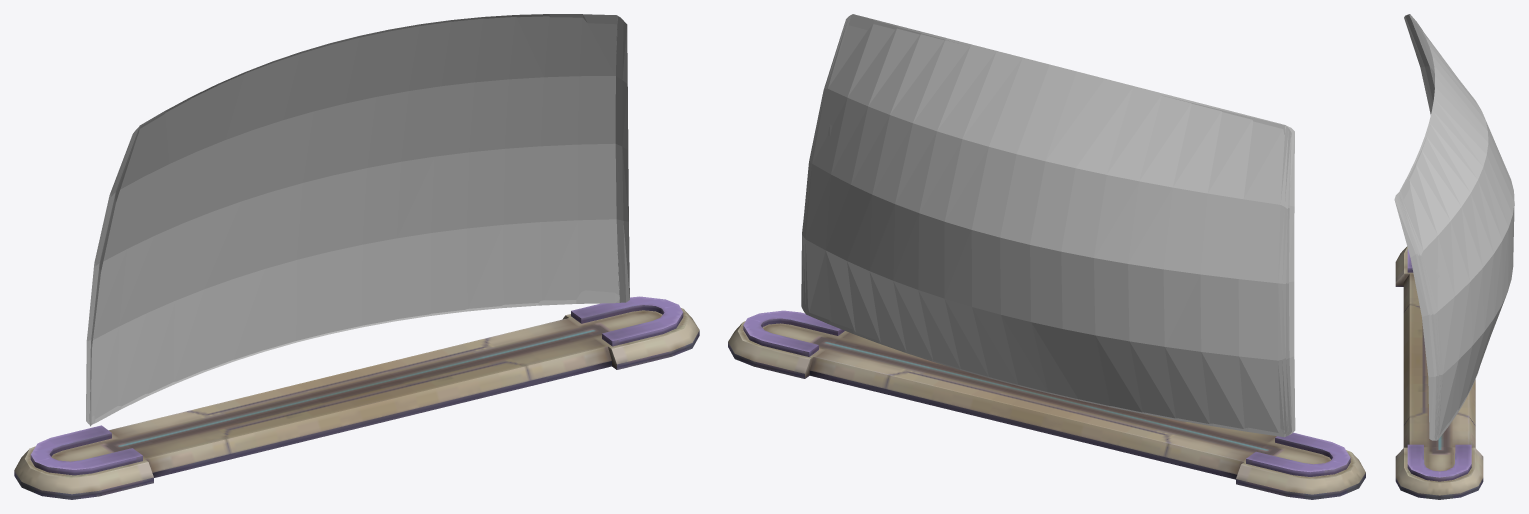
File: pref_fx_mini_onewaydoor_01_purpura_lv1.fbx
The picture shows the model from 3 angles, left to right: view 1: azimuth 30°, elevation 25°; view 2: azimuth 150°, elevation 25°; view 3: azimuth 270°, elevation 25°; orthographic projection. The views are drawn at different scales.
Parts seen in each view (by area): view 1: screen02, sm_garden_display01; view 2: screen02, sm_garden_display01; view 3: screen02, sm_garden_display01.
Part boxes in pixels (x1,y1,x2,y2): screen02: (86,14,629,426); sm_garden_display01: (14,296,699,499); screen02: (801,14,1295,437); sm_garden_display01: (728,310,1365,499); screen02: (1394,14,1514,440); sm_garden_display01: (1395,246,1483,499).
Size of the model in its own units: 3.73 by 1.98 by 0.7519.
